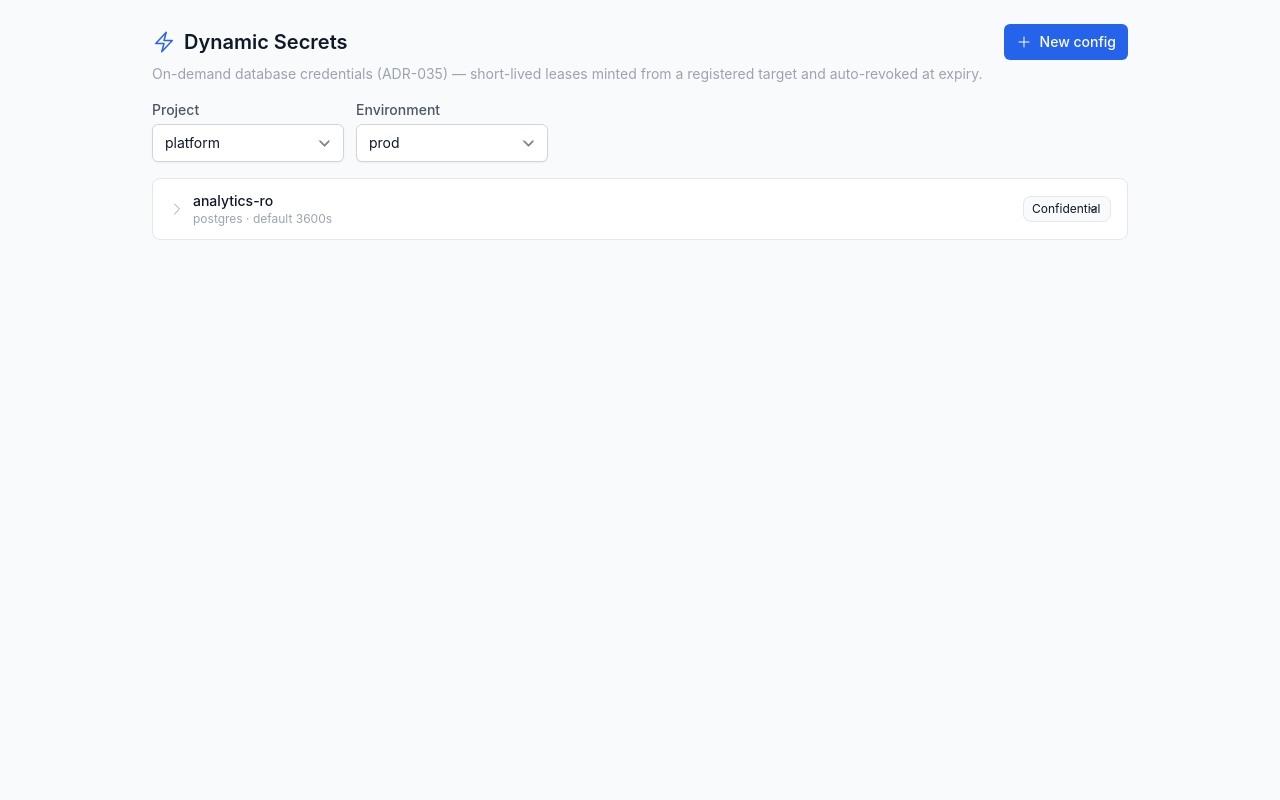
Test: DynamicSecretsPage › the create form adapts to cloud backends (JSON config; session policy / no template)
Click the button "New config" at (1066, 42), box [1004,24,1128,60]
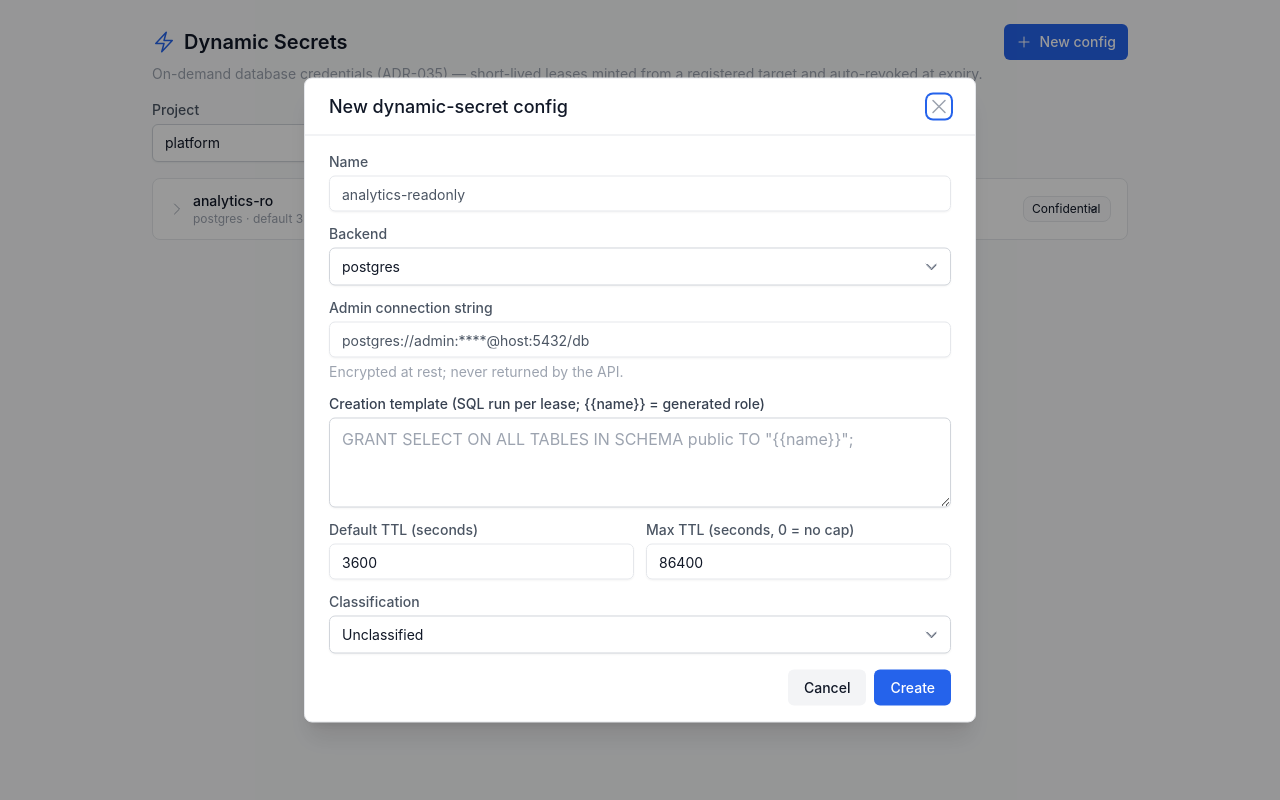
Now the password field labelled "Admin connection string" is shown, box [329,322,951,358]
// aws-sts → cloud config JSON + STS session policy (template repurposed).
Select "aws-sts" in the dropdown labelled "Backend" at (640, 266), box [329,248,951,286]
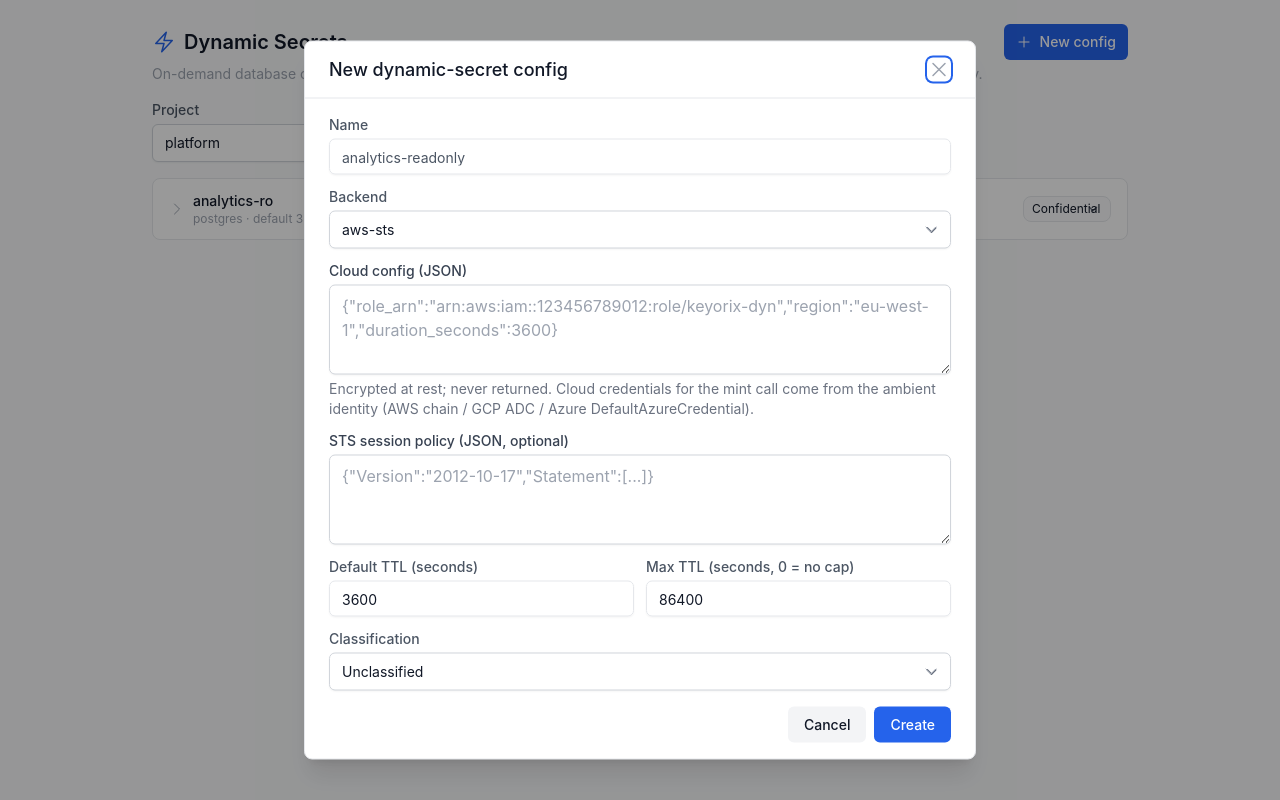
Now the label labelled "Admin connection string" is gone
Now the text box named "STS session policy" is shown, box [329,284,951,374]
// gcp → cloud config JSON, no creation template at all.
Select "gcp" in the dropdown labelled "Backend" at (640, 230), box [329,210,951,248]
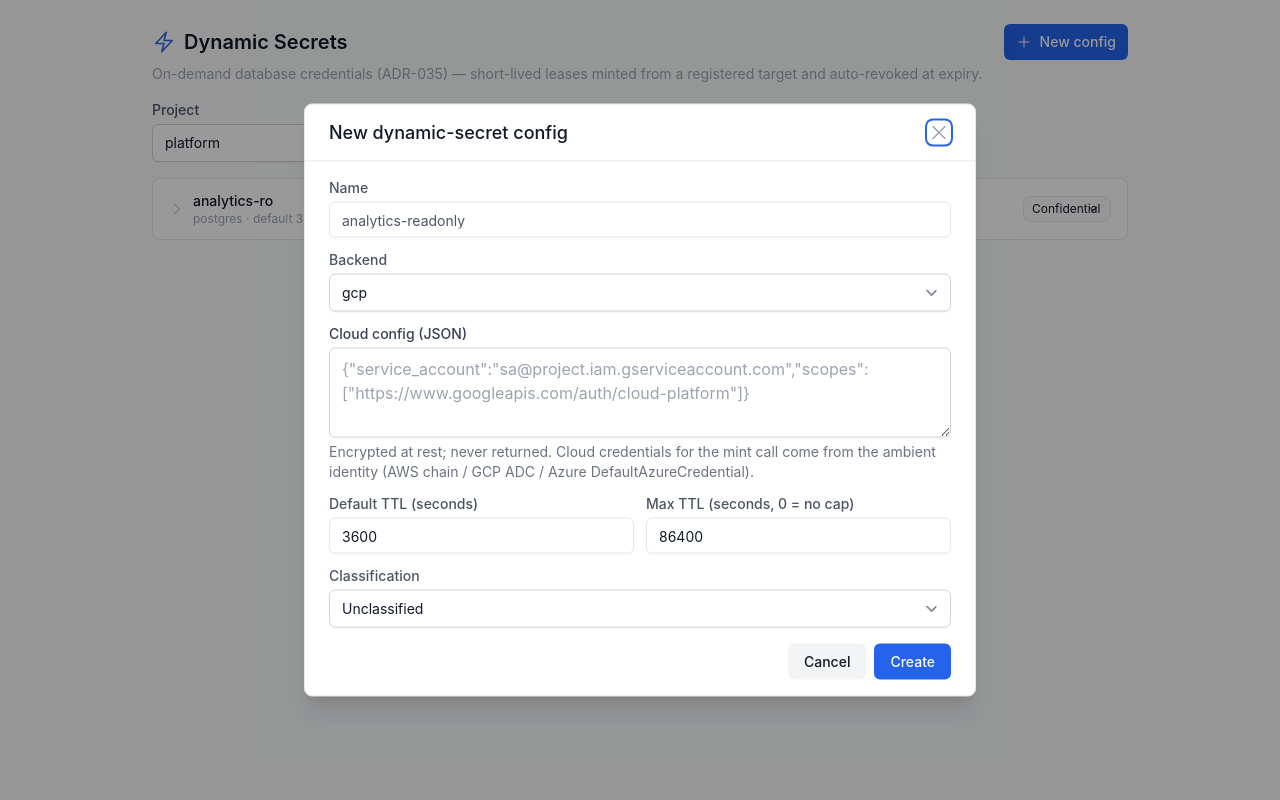
Now the text box labelled "Cloud config (JSON)" is shown, box [329,348,951,438]
Now the label labelled "STS session policy (JSON, optional)" is gone
